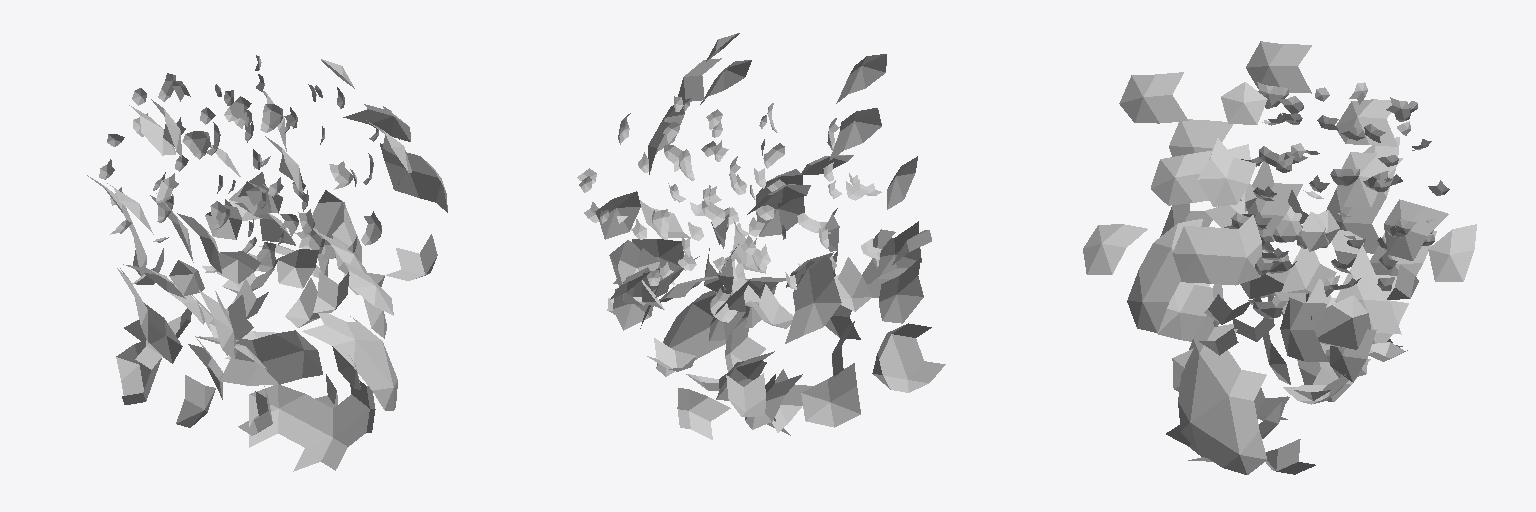
File: azuki_unarmed_exploding_000006.obj
3 views of the same model, side by side, from view 1: azimuth 30°, elevation 25°; view 2: azimuth 150°, elevation 25°; view 3: azimuth 270°, elevation 25° (orthographic).
Visible parts, largest first — view 1: Body_Icosphere.001, Leg.L_Icosphere.005, Leg.R_Icosphere.002, Eye.L_Icosphere.006, Eye.R_Icosphere.004; view 2: Body_Icosphere.001, Leg.L_Icosphere.005, Leg.R_Icosphere.002, Eye.R_Icosphere.004, Eye.L_Icosphere.006; view 3: Body_Icosphere.001, Leg.R_Icosphere.002, Eye.R_Icosphere.004, Eye.L_Icosphere.006, Leg.L_Icosphere.005.
Boxes of the visible parts, box(x1,y1,x2,y2) form: Body_Icosphere.001: box(87, 59, 447, 471); Leg.L_Icosphere.005: box(116, 181, 319, 435); Leg.R_Icosphere.002: box(205, 172, 437, 407); Eye.L_Icosphere.006: box(99, 73, 305, 272); Eye.R_Icosphere.004: box(207, 55, 399, 253); Body_Icosphere.001: box(595, 33, 931, 435); Leg.L_Icosphere.005: box(704, 208, 945, 432); Leg.R_Icosphere.002: box(607, 200, 793, 439); Eye.R_Icosphere.004: box(577, 96, 785, 285); Eye.L_Icosphere.006: box(668, 103, 881, 322); Body_Icosphere.001: box(1083, 41, 1476, 474); Leg.R_Icosphere.002: box(1199, 212, 1418, 474); Eye.R_Icosphere.004: box(1231, 115, 1434, 318); Eye.L_Icosphere.006: box(1235, 82, 1449, 273); Leg.L_Icosphere.005: box(1205, 184, 1402, 420).
Size of the model in its own units: 3.83 by 4.64 by 4.19.